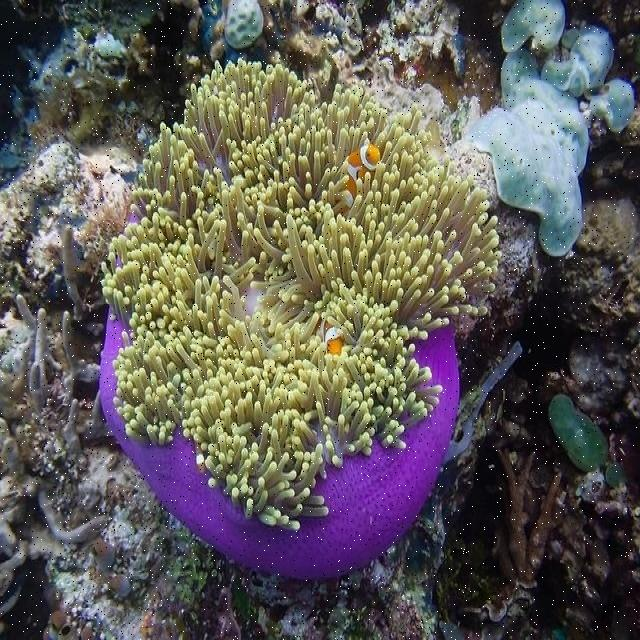fish: (340, 144, 381, 200), (325, 321, 344, 356)
reefs: (101, 58, 502, 530)
